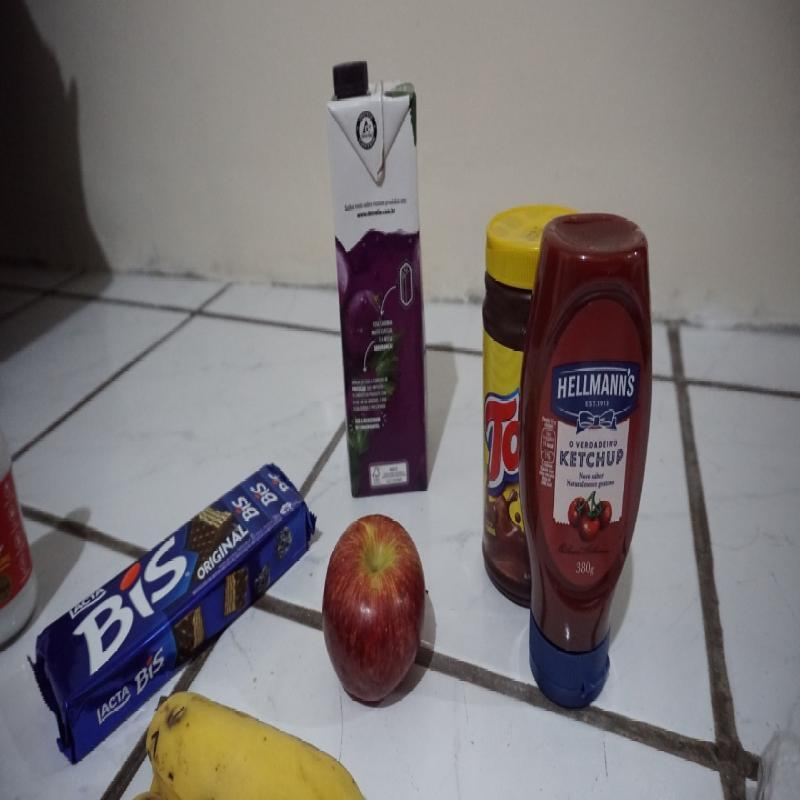Apple: (319, 512, 429, 708)
Banana: (131, 691, 381, 800)
Chocolate Powder: (481, 205, 538, 616)
Coconut Milk: (0, 417, 41, 654)
Ketchup: (517, 213, 655, 715)
